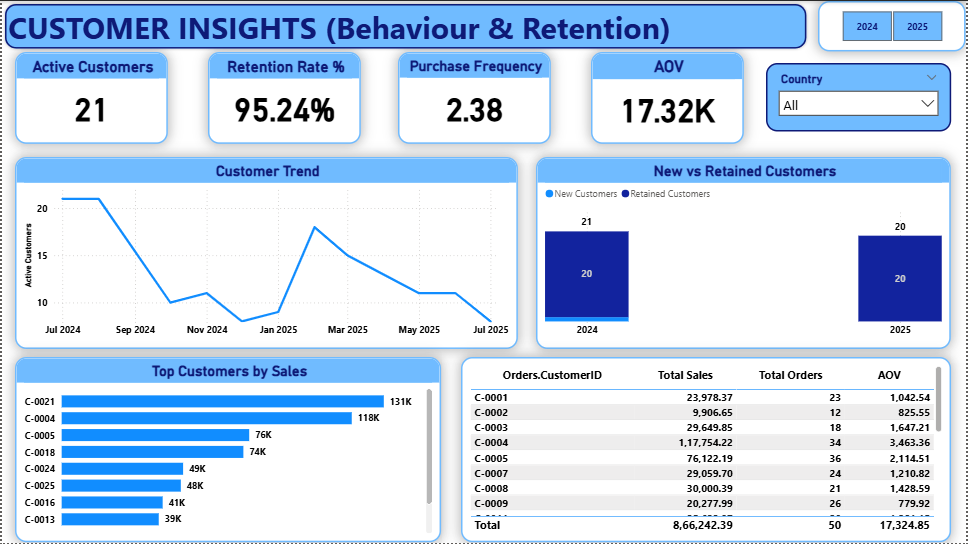

This screenshot's page, from the dashboard's own definition file:
{"tool":"powerbi","page":{"name":"DB4: Retention & Behaviour","canvas":[1280,720],"ordinal":3},"visuals":[{"type":"card","title":"Active Customers","fields":{"Values":["Measures Table.Active Customers"]},"box":[17.9,67.2,203.2,122.5],"z":0},{"type":"card","title":"Retention Rate %","fields":{"Values":["Measures Table.Retention Rate %"]},"box":[273.4,67.2,203.2,122.5],"z":1000},{"type":"card","title":"Purchase Frequency","fields":{"Values":["Measures Table.Purchase Frequency"]},"box":[525.8,67.2,203.2,122.5],"z":2000},{"type":"card","title":"AOV","fields":{"Values":["Measures Table.AOV"]},"box":[782.7,67.2,203.2,122.5],"z":3000},{"type":"lineChart","title":"Customer Trend","fields":{"Category":["Calendar_Table.Date.Variation.Date Hierarchy.Year","Calendar_Table.Date.Variation.Date Hierarchy.Month"],"Y":["Measures Table.Active Customers"]},"box":[17.9,207.6,667.7,255.4],"z":4000},{"type":"columnChart","title":"New vs Retained Customers","fields":{"Category":["Calendar_Table.Date.Variation.Date Hierarchy.Year"],"Y":["Measures Table.New Customers","Measures Table.Retained Customers"]},"box":[709.5,207.6,551.2,255.4],"z":5000},{"type":"barChart","title":"Top Customers by Sales","fields":{"Category":["FactSales.Orders.CustomerID"],"Y":["Measures Table.Total Sales"]},"box":[17.9,473.5,566.1,246.5],"z":6000},{"type":"tableEx","fields":{"Values":["FactSales.Orders.CustomerID","Measures Table.Total Sales","Measures Table.Total Orders","Measures Table.AOV"]},"box":[609.5,473.5,651.3,246.5],"z":7000},{"type":"slicer","fields":{"Values":["Calendar_Table.Date.Variation.Date Hierarchy.Year"]},"box":[1084.5,0,195.7,67.2],"z":8000},{"type":"slicer","fields":{"Values":["DimCustomer.Country"]},"box":[1014.3,82.2,246.5,91.1],"z":9000},{"type":"shape","box":[0,0,1072.5,67.2],"z":10000}]}

Visuals, with their boxes in screenshot pixels (x1, y1, x2, y2), scaled from the page's 1280x720 canvas onto the 968x544 screenshot:
"Active Customers" card: [14, 51, 167, 143]
"Retention Rate %" card: [207, 51, 360, 143]
"Purchase Frequency" card: [398, 51, 551, 143]
"AOV" card: [592, 51, 746, 143]
"Customer Trend" lineChart: [14, 157, 518, 350]
"New vs Retained Customers" columnChart: [537, 157, 953, 350]
"Top Customers by Sales" barChart: [14, 358, 442, 543]
tableEx - FactSales.Orders.CustomerID x Measures Table.Total Sales: [461, 358, 953, 543]
slicer - Calendar_Table.Date.Variation.Date Hierarchy.Year: [820, 0, 967, 51]
slicer - DimCustomer.Country: [767, 62, 953, 131]
shape: [0, 0, 811, 51]
